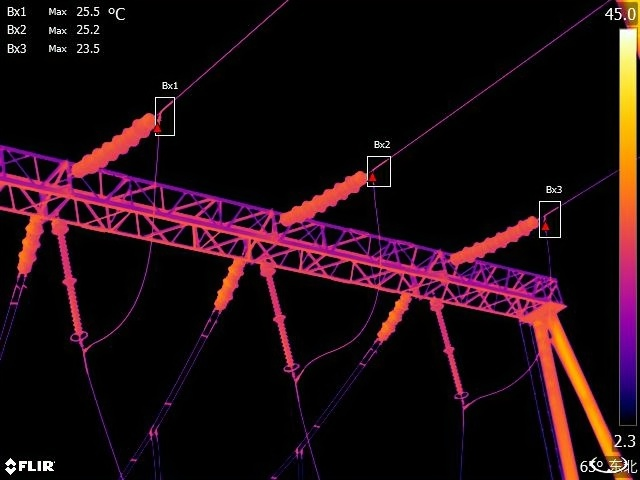clamp: (145, 423, 167, 447), (78, 340, 93, 362), (284, 372, 302, 390), (289, 439, 306, 458), (539, 207, 553, 228), (155, 102, 166, 123), (457, 400, 472, 414)
insulator: (71, 107, 159, 185), (272, 163, 375, 228), (450, 208, 547, 265), (50, 223, 90, 349), (261, 257, 301, 380), (428, 297, 468, 402), (210, 254, 252, 317), (11, 212, 46, 282), (376, 286, 412, 348)
